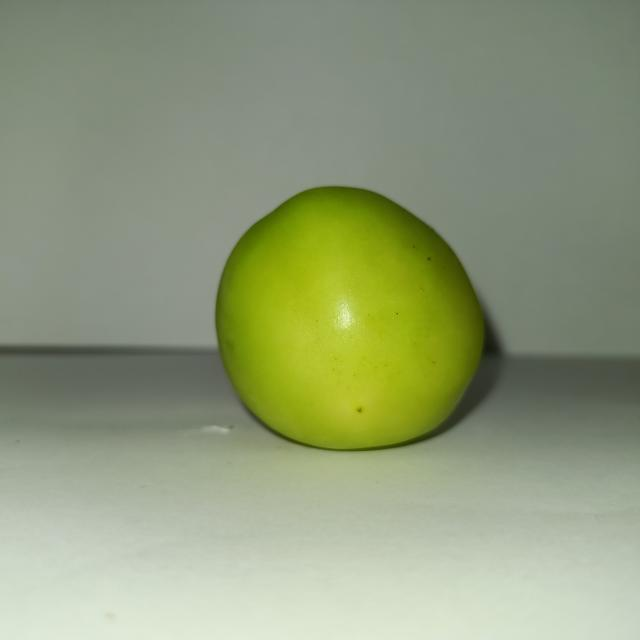Red: (213, 183, 486, 452)
